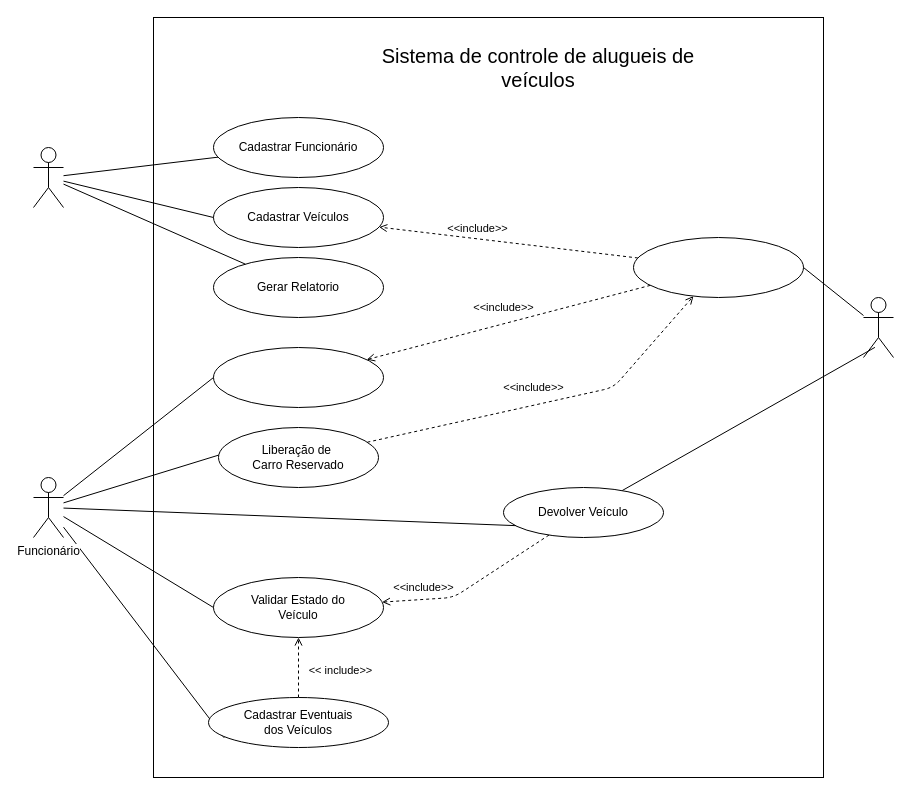
This 914x795 diagram has some shape labels left out. The shapes that lost their labels are listed below. From the top down, each one's centre as x and y in pixels, then its label:
At (48,177): "Gestor".
At (718,267): "Reservar Veículo".
At (878,327): "Cliente".
At (298,377): "Cadastrar Cliente".
